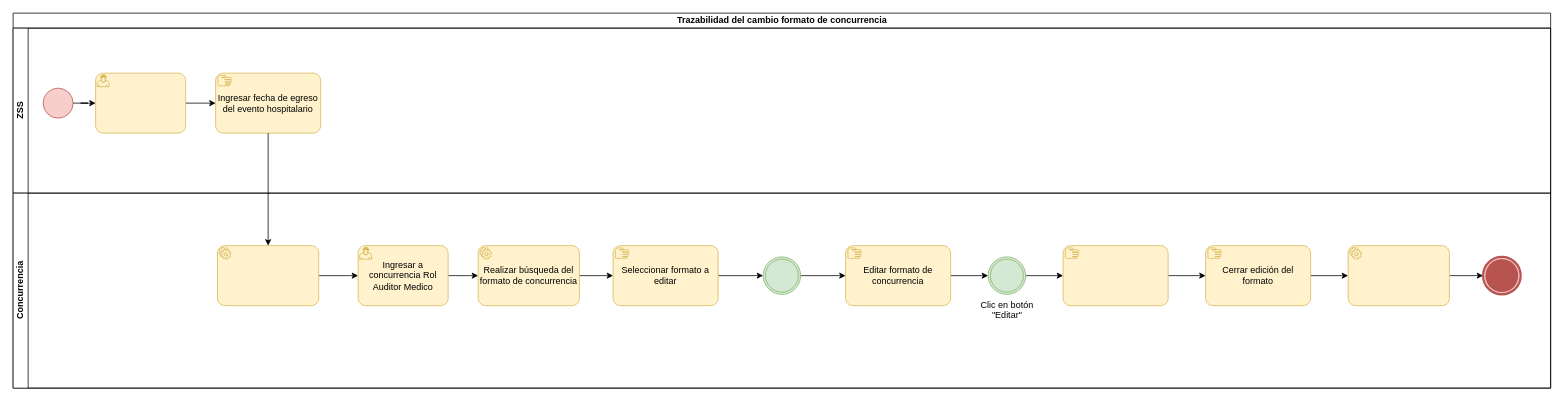
Image size: 1564x401. Some labels were removed from this diagram. The centre of each missing label's shape, as x and y in pixels:
Actualizar campos permitidos: point 1115,275
Cerrar formato de concurrencia automáticamente: point 268,275
Clic en botón "Detalle": point 781,275
Ingresar a ZonaSER Prestador Rol Prestador: point 140,102
Visualizar ajustes en la ventana "Trazabilidad del cambio": point 1398,275
